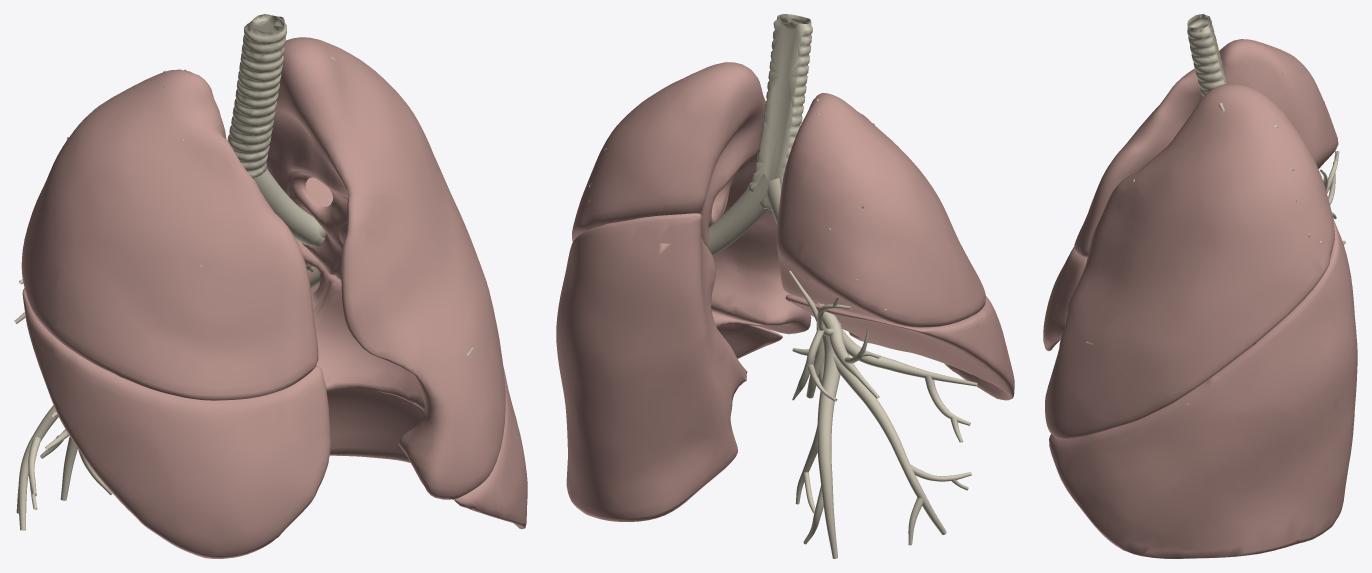
Rendered from thorax-lungs-airways-mobile.glb.
The picture shows the model from 3 angles, left to right: view 1: azimuth 30°, elevation 25°; view 2: azimuth 150°, elevation 25°; view 3: azimuth 270°, elevation 25°; orthographic projection. The views are drawn at different scales.
Parts seen in each view (by area): view 1: organ.right-lung-partial, organ.superior-lobe-of-left-lung, organ.inferior-lobe-of-left-lung, organ.trachea, organ.left-main-bronchus, organ.lateral-basal-segmental-bronchus-of-right-lung-bix, organ.posterior-basal-segmental-bronchus-of-right-lung-bx; view 2: organ.inferior-lobe-of-left-lung, organ.right-lung-partial, organ.superior-lobe-of-left-lung, organ.trachea, organ.lateral-basal-segmental-bronchus-of-right-lung-bix, organ.posterior-basal-segmental-bronchus-of-right-lung-bx, organ.superior-segmental-bronchus-of-right-lung-bvi, organ.left-main-bronchus, organ.anterior-basal-segmental-bronchus-of-right-lung-bviii, organ.right-inferior-lobar-bronchus; view 3: organ.superior-lobe-of-left-lung, organ.inferior-lobe-of-left-lung, organ.right-lung-partial, organ.trachea, organ.superior-segmental-bronchus-of-right-lung-bvi.
Part boxes in pixels (left/top/right/bottom): organ.right-lung-partial: left=21, top=69, right=330, bottom=558; organ.superior-lobe-of-left-lung: left=266, top=37, right=505, bottom=499; organ.inferior-lobe-of-left-lung: left=296, top=177, right=527, bottom=529; organ.trachea: left=227, top=14, right=286, bottom=177; organ.left-main-bronchus: left=253, top=169, right=320, bottom=244; organ.lateral-basal-segmental-bronchus-of-right-lung-bix: left=16, top=405, right=58, bottom=530; organ.posterior-basal-segmental-bronchus-of-right-lung-bx: left=60, top=436, right=112, bottom=500; organ.inferior-lobe-of-left-lung: left=556, top=213, right=782, bottom=521; organ.right-lung-partial: left=776, top=93, right=1014, bottom=400; organ.superior-lobe-of-left-lung: left=572, top=62, right=811, bottom=334; organ.trachea: left=747, top=14, right=812, bottom=209; organ.lateral-basal-segmental-bronchus-of-right-lung-bix: left=833, top=354, right=971, bottom=545; organ.posterior-basal-segmental-bronchus-of-right-lung-bx: left=795, top=408, right=837, bottom=558; organ.superior-segmental-bronchus-of-right-lung-bvi: left=789, top=270, right=880, bottom=401; organ.left-main-bronchus: left=708, top=173, right=768, bottom=255; organ.anterior-basal-segmental-bronchus-of-right-lung-bviii: left=842, top=329, right=977, bottom=442; organ.right-inferior-lobar-bronchus: left=818, top=322, right=841, bottom=410; organ.superior-lobe-of-left-lung: left=1045, top=83, right=1334, bottom=439; organ.inferior-lobe-of-left-lung: left=1049, top=219, right=1357, bottom=558; organ.right-lung-partial: left=1043, top=39, right=1338, bottom=350; organ.trachea: left=1187, top=14, right=1227, bottom=96; organ.superior-segmental-bronchus-of-right-lung-bvi: left=1320, top=151, right=1345, bottom=244.
Bounding box in the file's own units: 0.2534 × 0.2936 × 0.1853.
